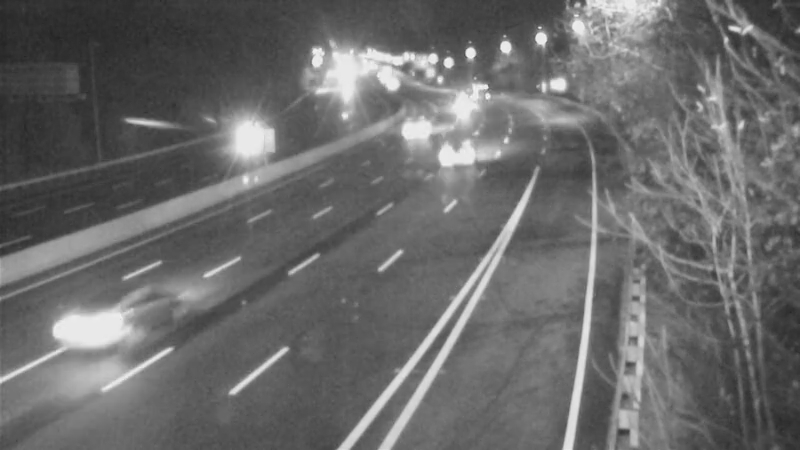vehicle: (40, 270, 150, 380), (452, 66, 502, 116), (440, 82, 490, 132), (391, 110, 441, 160), (435, 123, 485, 173), (211, 115, 261, 165)
